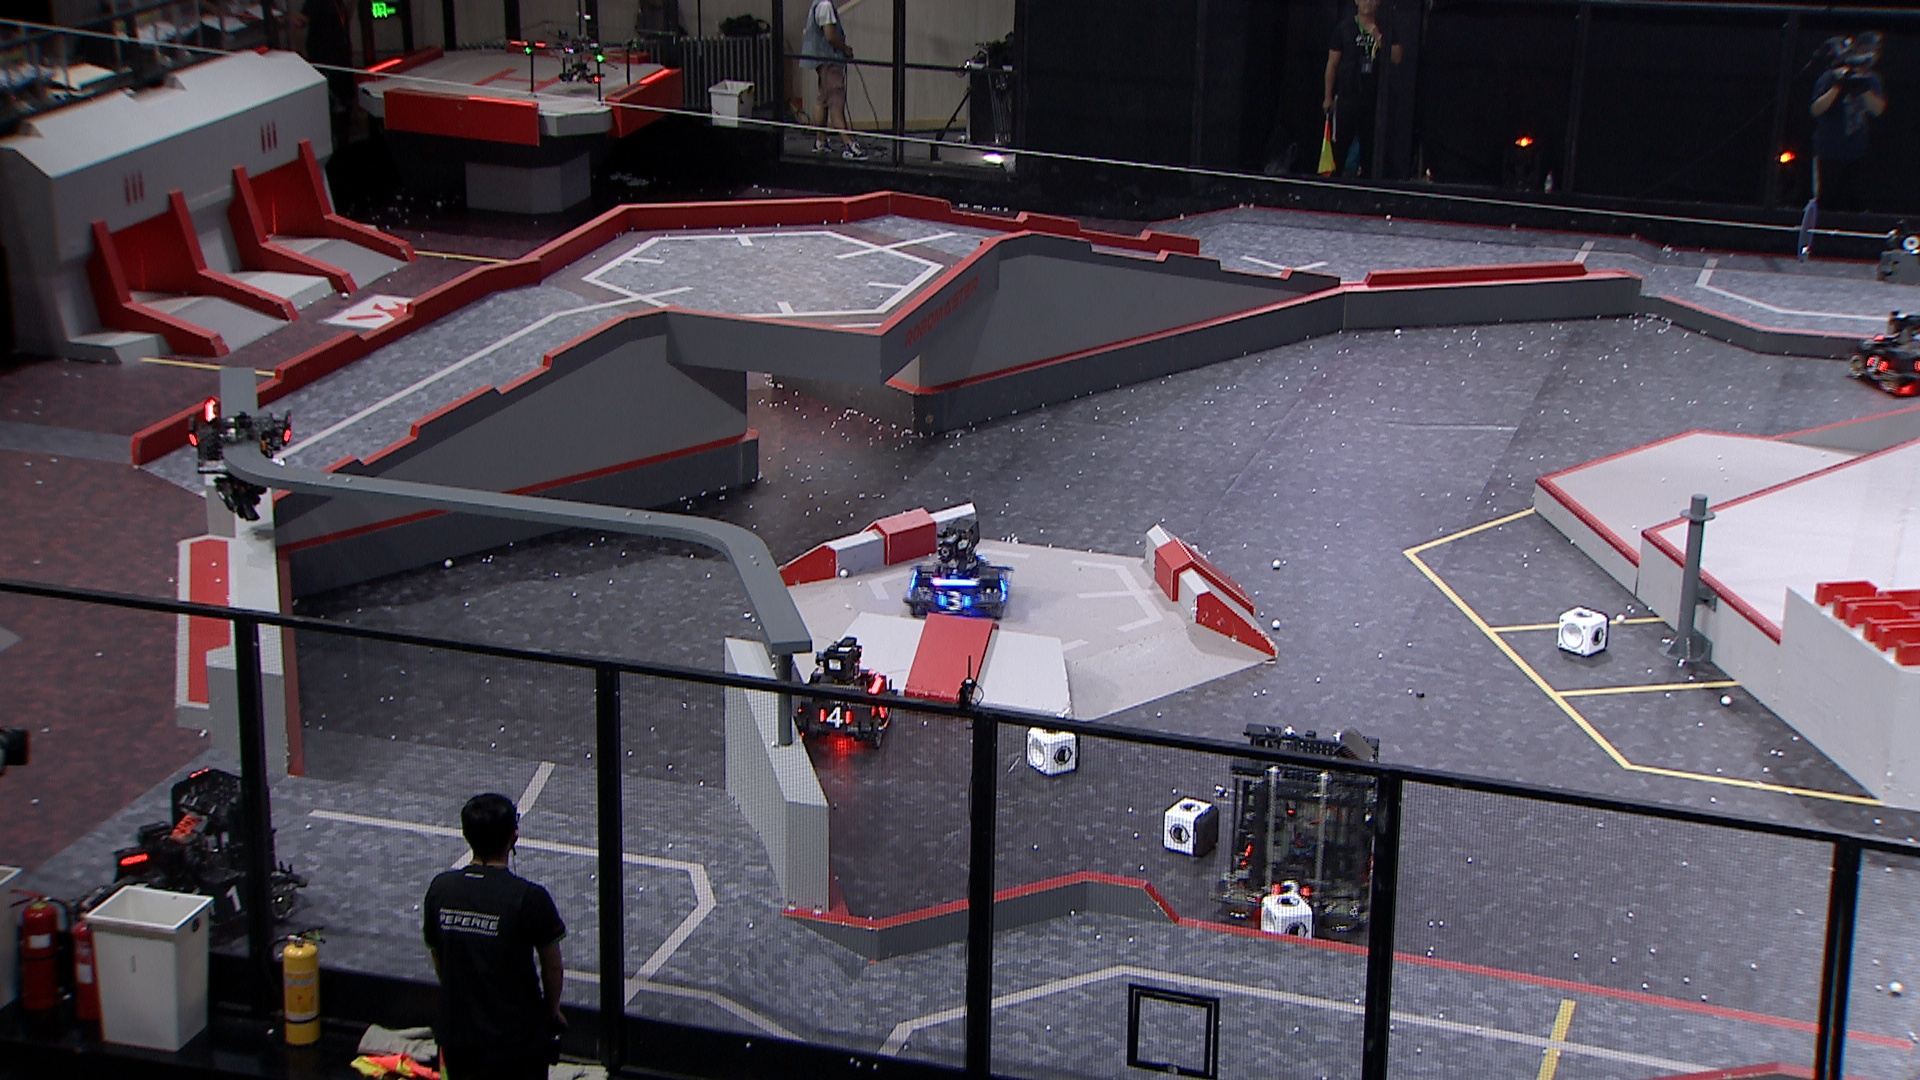armor: (206, 884, 249, 916), (1269, 877, 1313, 899), (816, 705, 855, 731), (936, 591, 973, 615), (1865, 353, 1892, 377)
car: (71, 764, 311, 955), (1211, 723, 1385, 935), (793, 638, 897, 750), (905, 517, 1011, 622), (1850, 309, 1920, 396)
watcher: (186, 400, 295, 524)
